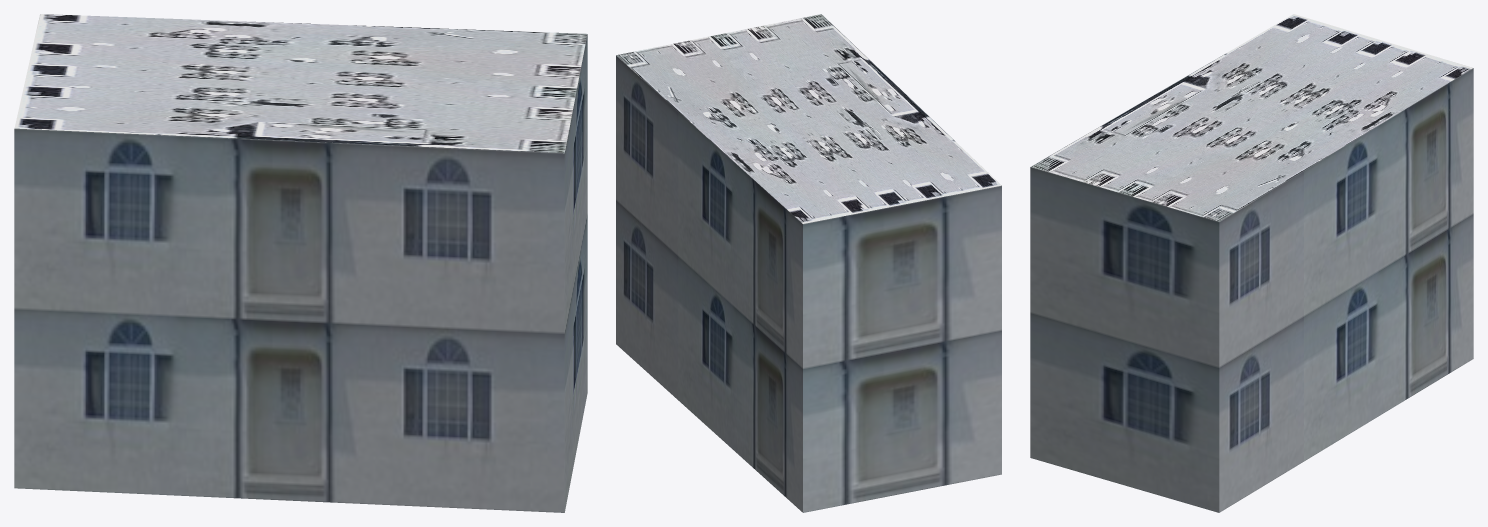
File: ResTex__3837.fbx
3 renders of one model, left to right at view 1: azimuth 30°, elevation 25°; view 2: azimuth 150°, elevation 25°; view 3: azimuth 270°, elevation 25°, orthographic. The views are drawn at different scales.
Parts seen in each view (by area): view 1: CityEngineMaterial_17_m, CityEngineMaterial_4_m; view 2: CityEngineMaterial_17_m, CityEngineMaterial_4_m; view 3: CityEngineMaterial_17_m, CityEngineMaterial_4_m.
Boxes of the visible parts, x1,y1,x2,y2 form: CityEngineMaterial_17_m: [14, 34, 587, 512]; CityEngineMaterial_4_m: [14, 14, 587, 153]; CityEngineMaterial_17_m: [616, 55, 1001, 512]; CityEngineMaterial_4_m: [616, 14, 1001, 223]; CityEngineMaterial_17_m: [1030, 68, 1473, 512]; CityEngineMaterial_4_m: [1031, 14, 1472, 221].
Bounding box in the file's own units: 9.2 × 6 × 8.28.
Materials: 2 (2 with a texture image).
